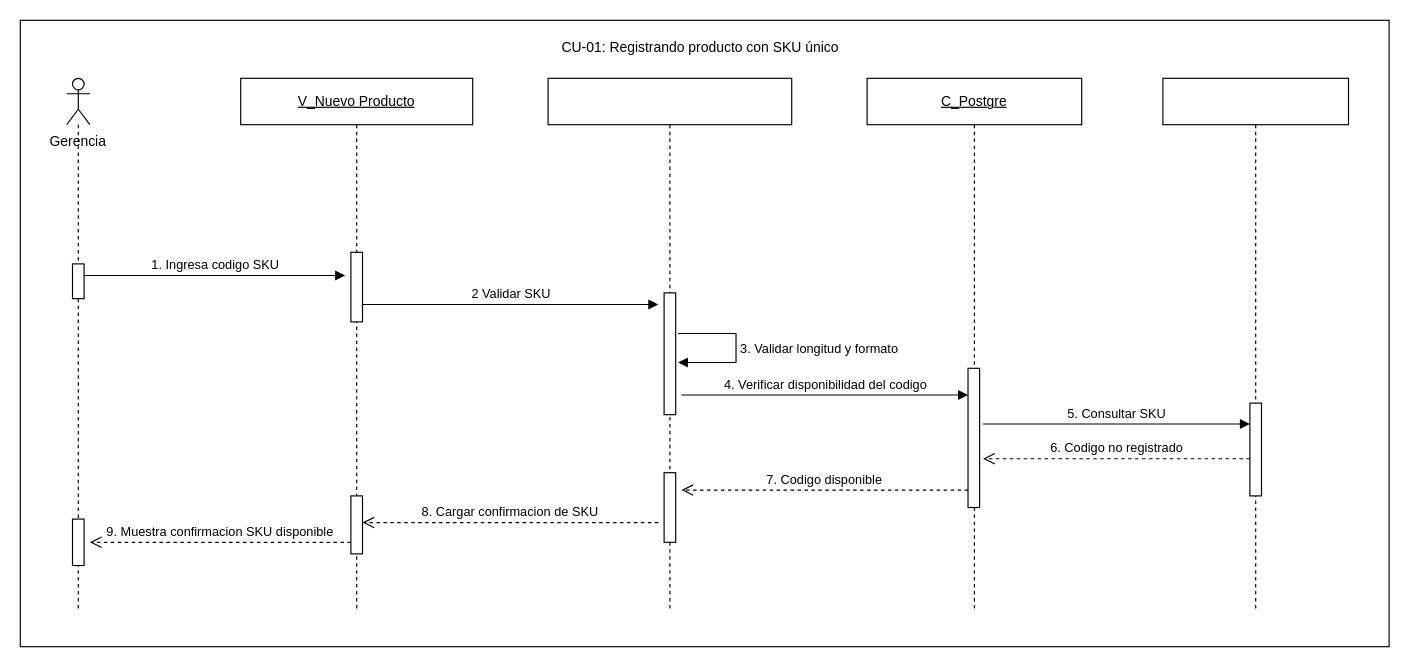
Image size: 1409x667. Some labels were removed from this diagram. Here are the shapes that lost their labels. From the top down, the box of each, then its label:
(547, 77, 792, 612): C_materiales
(1162, 77, 1348, 612): Material
